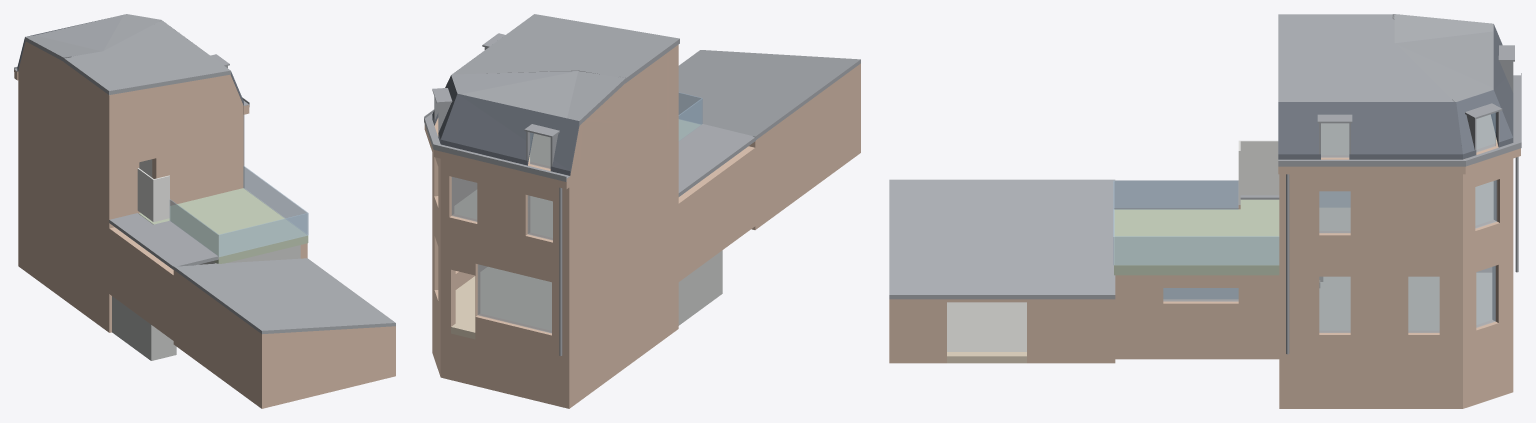
Rendered from maison 23-11.gltf.
The picture shows the model from 3 angles, left to right: view 1: azimuth 30°, elevation 25°; view 2: azimuth 150°, elevation 25°; view 3: azimuth 270°, elevation 25°; orthographic projection. The views are drawn at different scales.
Visible parts, largest first — view 1: 1-toiture-garage, 0I, 2C, 1C, 0H, T-pan-cote-b, 0D, 1-terrasse-projet, 1D, 2D, 0E, 1-terrasse-projet-garde-corps (+10 smaller); view 2: 1-toiture-garage, 0H, 0D, T-pan-cote-b, 1D, 1A, 2D, 0E, 0A, SA, T-brisis-cote-a, SD (+24 smaller); view 3: 1-toiture-garage, 1B, 0B, 0F, T-pan-cote-b, 1-terrasse-projet, 0J, SB, T-brisis-cote-b, 1-terrasse-projet-garde-corps, 0-garage, 0-salon (+28 smaller).
Part boxes in pixels (x1,y1,x2,y2): 1-toiture-garage: (173,258,395,334); 0I: (262,326,395,408); 2C: (109,74,243,159); 1C: (109,127,243,219); 0H: (173,270,261,408); T-pan-cote-b: (63,20,230,94); 0D: (18,156,109,293); 1-terrasse-projet: (139,188,308,263); 1D: (18,93,109,222); 2D: (18,41,109,158); 0E: (109,227,173,340); 1-terrasse-projet-garde-corps: (169,166,308,256); 1-toiture-garage: (678,50,860,139); 0H: (749,63,860,229); 0D: (569,197,678,361); T-pan-cote-b: (452,14,679,82); 1D: (569,121,678,276); 1A: (440,170,569,277); 2D: (569,45,678,200); 0E: (678,146,755,281); 0A: (440,246,569,362); SA: (440,331,569,408); T-brisis-cote-a: (440,93,579,175); SD: (569,282,678,408); 1-toiture-garage: (889,179,1115,299); 1B: (1279,187,1462,268); 0B: (1279,268,1462,359); 0F: (1115,275,1279,359); T-pan-cote-b: (1278,14,1453,101); 1-terrasse-projet: (1114,199,1279,275); 0J: (889,299,1115,363); SB: (1279,359,1462,408); T-brisis-cote-b: (1278,102,1462,159); 1-terrasse-projet-garde-corps: (1113,180,1279,265); 0-garage: (947,302,1026,351); 0-salon: (1319,273,1491,330).
Size of what is drawn, in the model's own units: 6.62 by 11.02 by 20.13.
